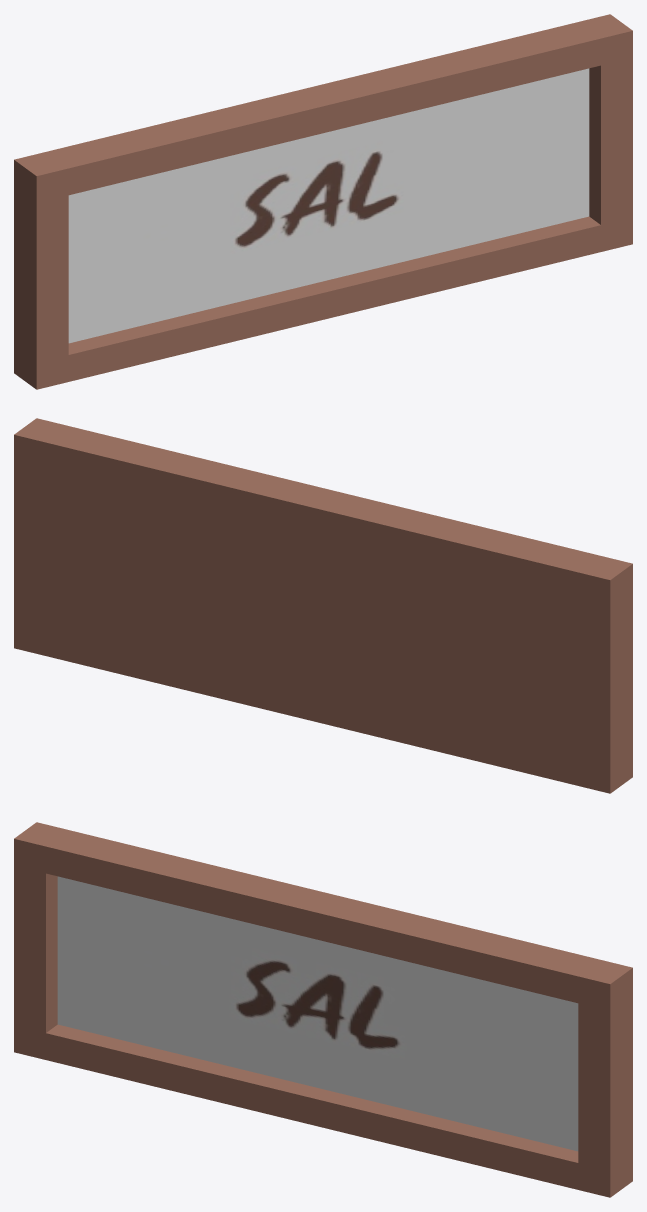
File: CartelSal.fbx
3 renders of one model, top to bottom at view 1: azimuth 30°, elevation 25°; view 2: azimuth 150°, elevation 25°; view 3: azimuth 330°, elevation 25°, orthographic.
Visible parts, largest first — view 1: Cubo.001; view 2: Cubo.001; view 3: Cubo.001.
Boxes of the visible parts, x1,y1,x2,y2 form: Cubo.001: (14, 14, 632, 389); Cubo.001: (14, 418, 632, 793); Cubo.001: (14, 822, 632, 1197).
Size of the model in its own units: 180 by 61.58 by 11.85.
